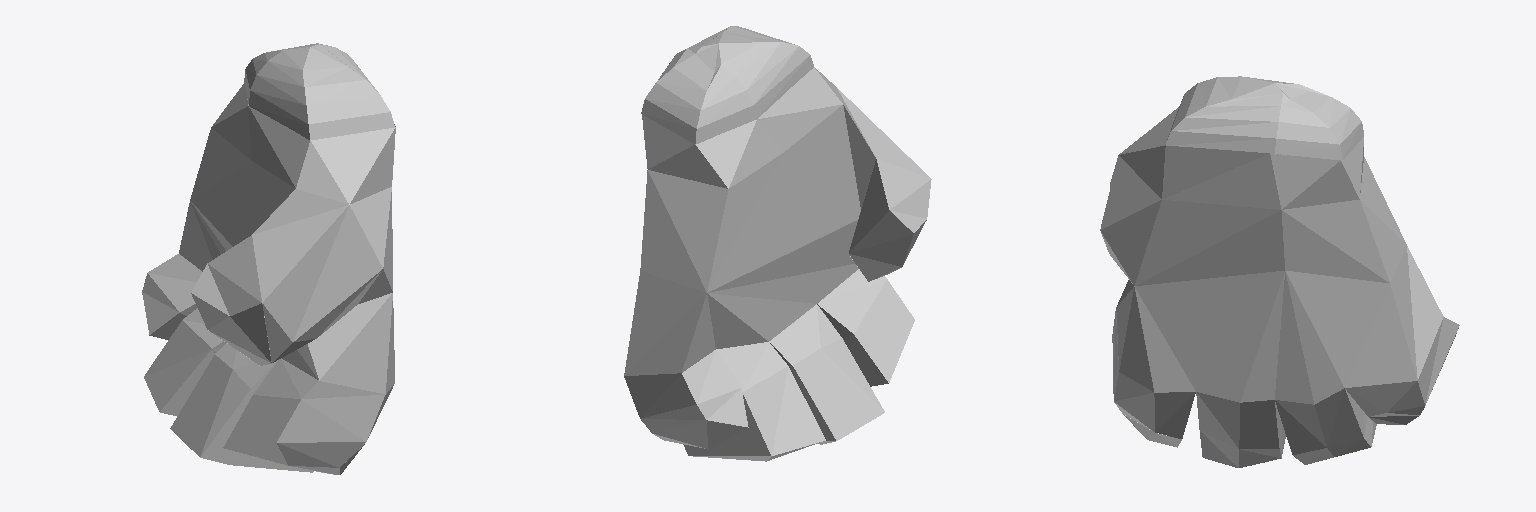
The model's file is manoDer.obj.
3 renders of one model, left to right at view 1: azimuth 30°, elevation 25°; view 2: azimuth 150°, elevation 25°; view 3: azimuth 270°, elevation 25°, orthographic.
Parts seen in each view (by area): view 1: polySurface43; view 2: polySurface43; view 3: polySurface43.
Part boxes in pixels (x1,y1,x2,y2): polySurface43: (142,43,395,474); polySurface43: (624,26,931,461); polySurface43: (1100,76,1459,467).
Size of the model in its own units: 0.1875 by 0.3363 by 0.2767.